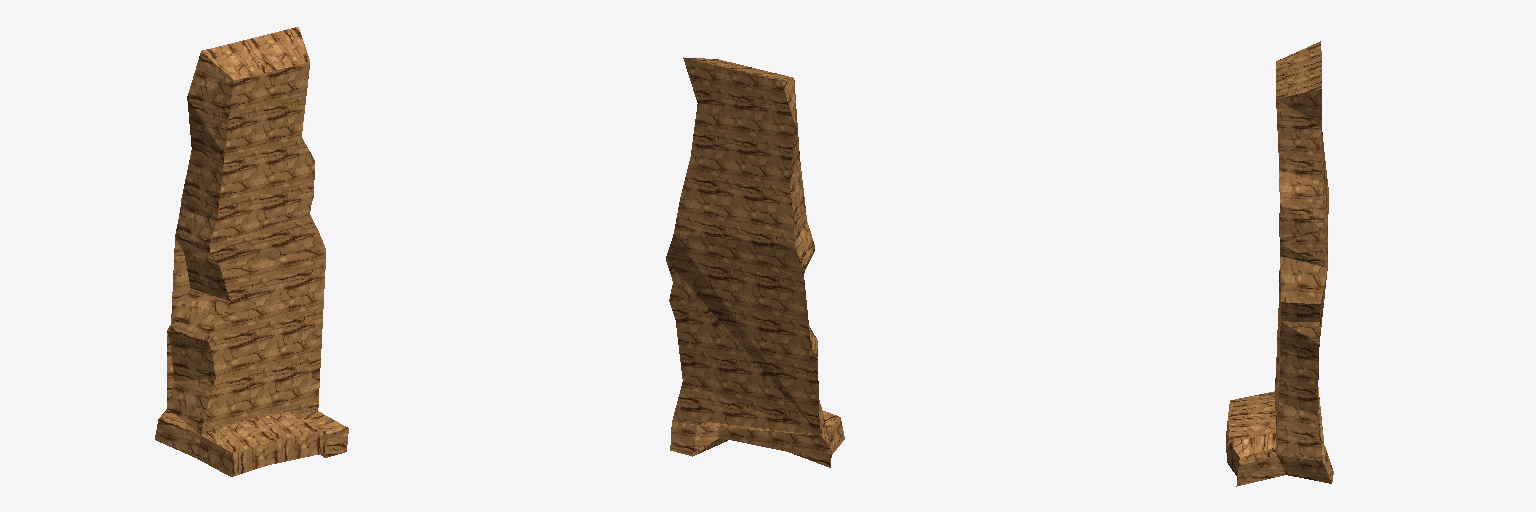
3 views of the same model, side by side, from view 1: azimuth 30°, elevation 25°; view 2: azimuth 150°, elevation 25°; view 3: azimuth 270°, elevation 25° (orthographic).
Parts seen in each view (by area): view 1: Plane.015_Plane.021; view 2: Plane.015_Plane.021; view 3: Plane.015_Plane.021.
Boxes of the visible parts, box(x1,y1,x2,y2) form: Plane.015_Plane.021: box(155, 27, 348, 476); Plane.015_Plane.021: box(666, 57, 844, 467); Plane.015_Plane.021: box(1226, 41, 1333, 486).
Size of the model in its own units: 460 by 1061 by 261.
1 materials, 1 textured.